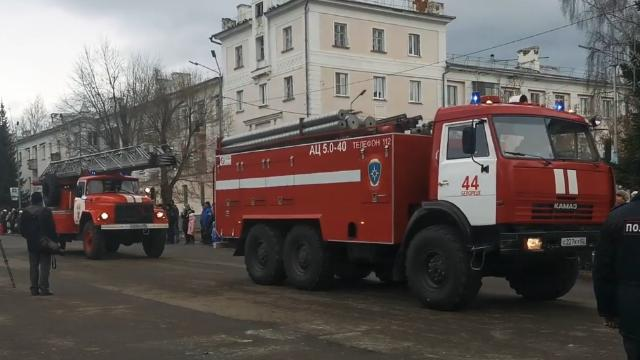fire fighting vehicle: (215, 90, 615, 312), (38, 142, 175, 260)
